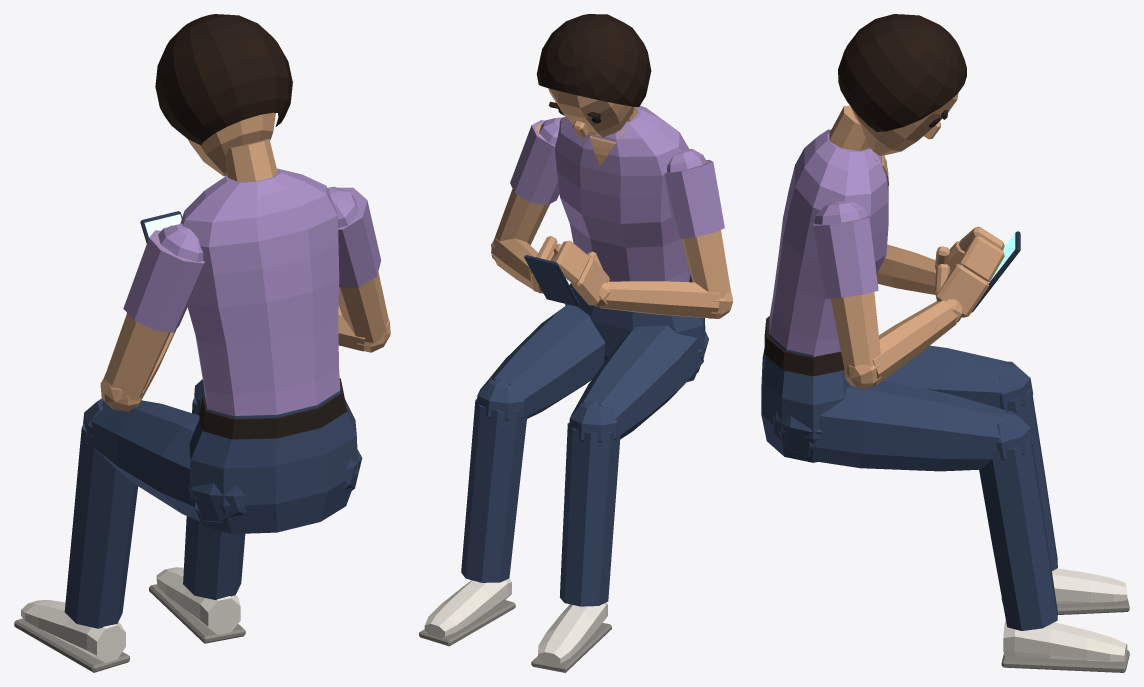
Rendered from person_cafe_phone.glb.
3 views of the same model, side by side, from view 1: azimuth 30°, elevation 25°; view 2: azimuth 150°, elevation 25°; view 3: azimuth 270°, elevation 25° (orthographic). The views are drawn at different scales.
Parts seen in each view (by area): view 1: Chest, Hips, Head, Shin_L, Thigh_L, UpperArm_L, UpperArm_R, Foot_L, Shin_R, Foot_R, Neck, Forearm_L (+2 smaller); view 2: Chest, Head, Shin_L, Shin_R, Thigh_L, Thigh_R, UpperArm_L, UpperArm_R, Forearm_L, Foot_R, Foot_L, Hips (+4 smaller); view 3: Thigh_R, Chest, Head, Shin_R, UpperArm_R, Hips, Foot_R, Thigh_L, Forearm_R, Hand_R, Foot_L, Shin_L (+4 smaller).
Part boxes in pixels (left/top/right/bottom): Chest: left=180, top=168, right=340, bottom=416; Hips: left=189, top=378, right=358, bottom=533; Head: left=155, top=14, right=292, bottom=176; Shin_L: left=64, top=398, right=138, bottom=628; Thigh_L: left=90, top=400, right=246, bottom=522; UpperArm_L: left=103, top=223, right=204, bottom=400; UpperArm_R: left=327, top=186, right=388, bottom=343; Foot_L: left=14, top=600, right=129, bottom=672; Shin_R: left=183, top=379, right=245, bottom=599; Foot_R: left=149, top=567, right=245, bottom=643; Neck: left=225, top=139, right=277, bottom=181; Forearm_L: left=100, top=329, right=176, bottom=411; Chest: left=555, top=105, right=690, bottom=281; Head: left=536, top=14, right=651, bottom=137; Shin_L: left=560, top=399, right=620, bottom=606; Shin_R: left=461, top=377, right=527, bottom=582; Thigh_L: left=573, top=325, right=708, bottom=439; Thigh_R: left=482, top=304, right=605, bottom=418; UpperArm_L: left=664, top=149, right=731, bottom=298; UpperArm_R: left=493, top=117, right=562, bottom=245; Forearm_L: left=600, top=281, right=732, bottom=318; Foot_R: left=419, top=578, right=515, bottom=646; Foot_L: left=531, top=602, right=611, bottom=672; Hips: left=565, top=274, right=705, bottom=381; Thigh_R: left=773, top=380, right=1006, bottom=471; Chest: left=769, top=129, right=888, bottom=356; Head: left=838, top=14, right=966, bottom=155; Shin_R: left=979, top=411, right=1057, bottom=630; UpperArm_R: left=813, top=201, right=880, bottom=372; Hips: left=761, top=316, right=850, bottom=462; Foot_R: left=1001, top=620, right=1129, bottom=672; Thigh_L: left=883, top=345, right=1006, bottom=407; Forearm_R: left=844, top=300, right=958, bottom=389; Hand_R: left=935, top=236, right=1004, bottom=322; Foot_L: left=1001, top=568, right=1129, bottom=614; Shin_L: left=998, top=361, right=1057, bottom=570.
Size of the model in its own units: 0.5385 by 1.22 by 0.6603.
